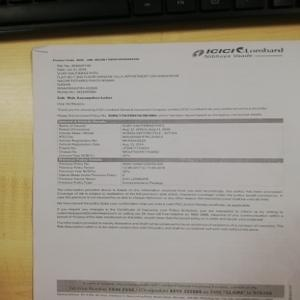image: (190, 41, 286, 64)
text: (49, 55, 266, 117), (56, 189, 285, 232), (57, 124, 178, 156), (57, 161, 173, 190)
